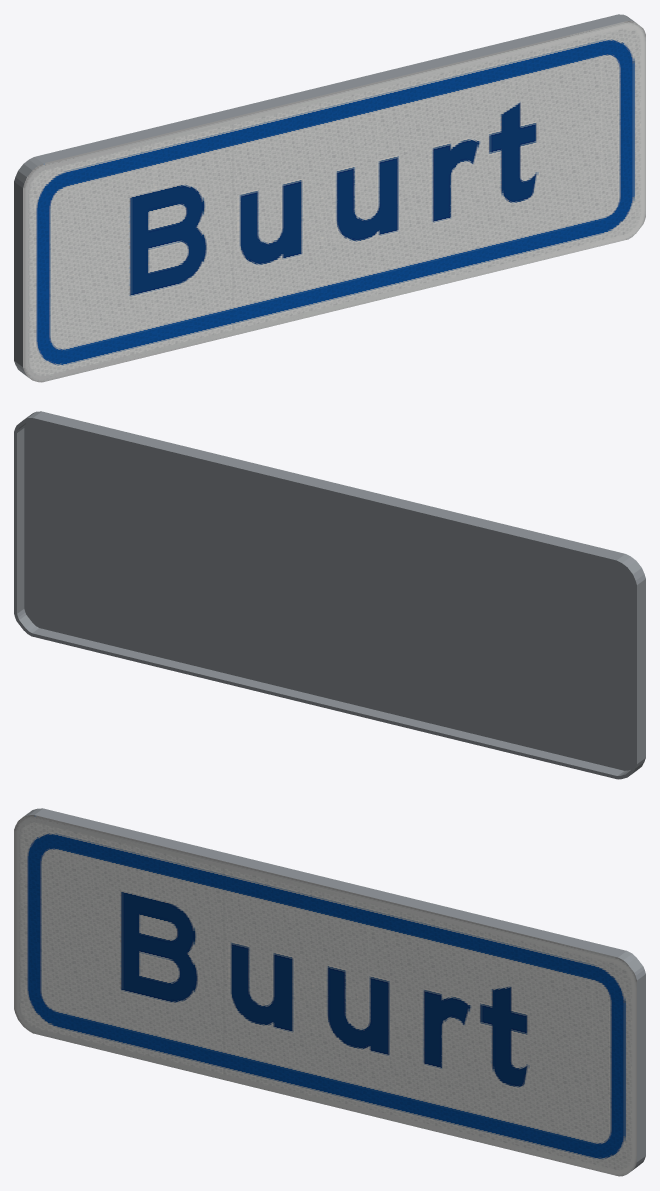
3 views of the same model, one above another, from view 1: azimuth 30°, elevation 25°; view 2: azimuth 150°, elevation 25°; view 3: azimuth 330°, elevation 25° (orthographic).
Parts seen in each view (by area): view 1: cat_a5a63e0e3889dbd9; view 2: cat_a5a63e0e3889dbd9; view 3: cat_a5a63e0e3889dbd9.
Part boxes in pixels (x1,y1,x2,y2): cat_a5a63e0e3889dbd9: [14, 14, 645, 382]; cat_a5a63e0e3889dbd9: [14, 411, 645, 779]; cat_a5a63e0e3889dbd9: [14, 808, 645, 1176].
Size of the model in its own units: 0.6 by 0.015 by 0.2013.
2 materials, 1 textured.
